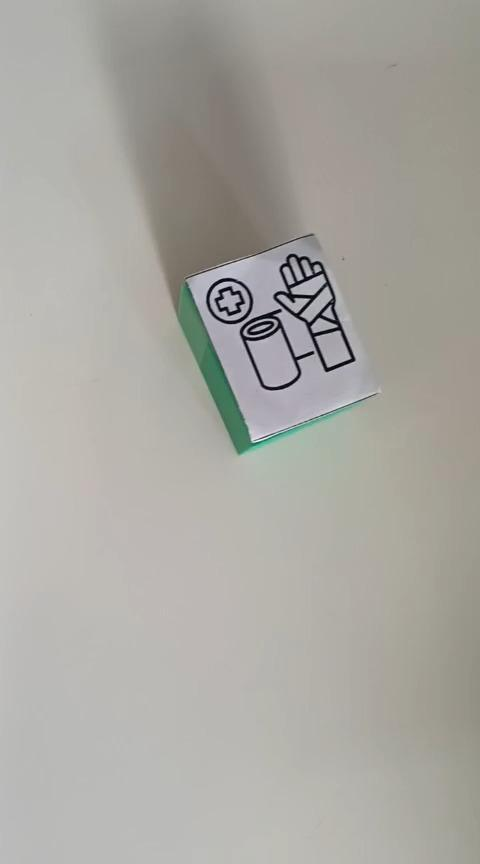Bandages: (175, 231, 381, 454)
